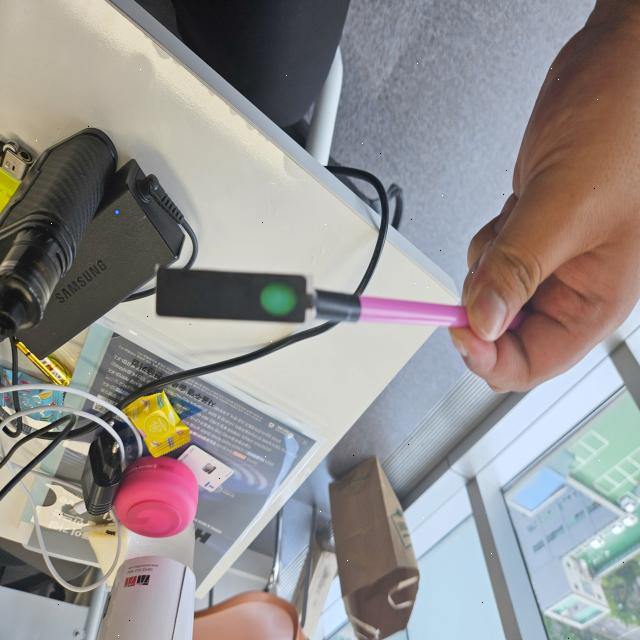traffic light: (156, 270, 313, 326)
